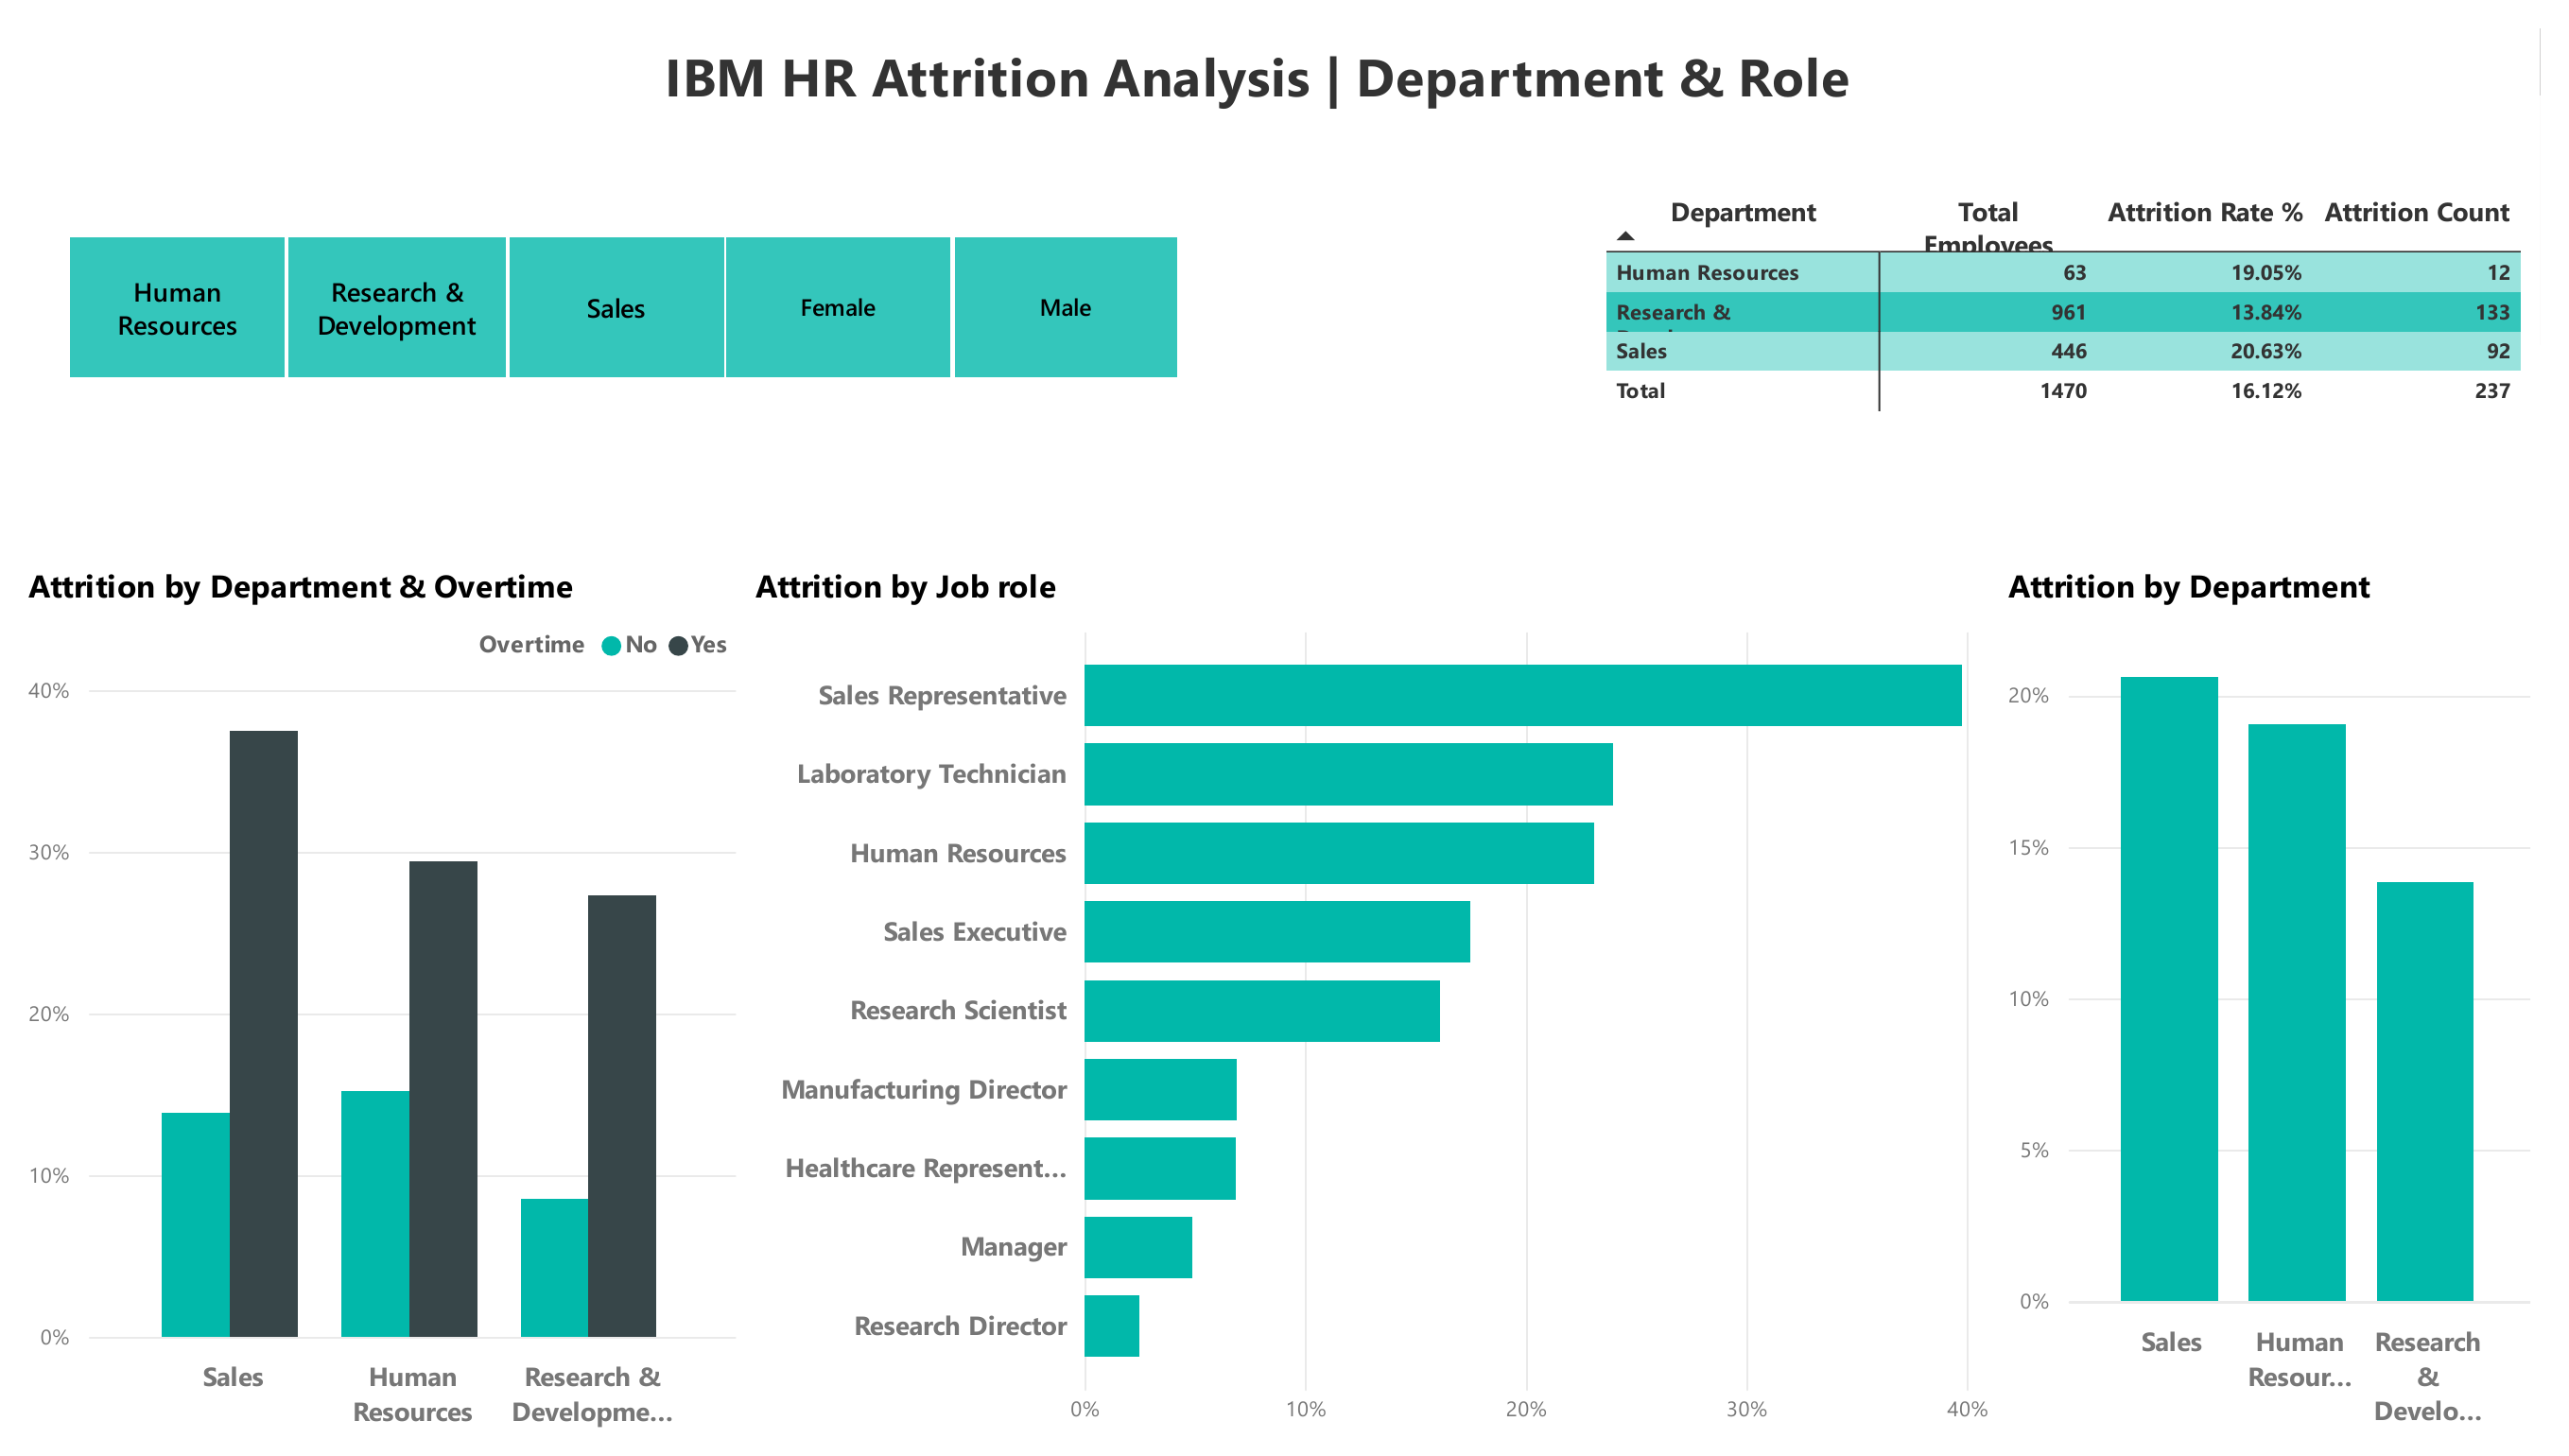

The dashboard page shown, as its layout file describes it:
{"tool":"powerbi","page":{"name":"IBM HR Attrition Analysis | Department & Role","canvas":[1280,720],"ordinal":1},"visuals":[{"type":"clusteredColumnChart","title":"Attrition by Department","fields":{"Category":["public demographics.department"],"Y":["public attrition.Attrition Rate %"]},"box":[1004.8,272,275,447.4],"z":0},{"type":"clusteredBarChart","title":"Attrition by Job role","fields":{"Category":["public demographics.jobrole"],"Y":["public attrition.Attrition Rate %"]},"box":[368.6,272,636.2,447.4],"z":1000},{"type":"pivotTable","fields":{"Rows":["public demographics.department","public demographics.jobrole"],"Values":["public demographics.Total Employees","public attrition.Attrition Rate %","public attrition.Attrition Count"]},"box":[801.2,75.8,478.6,151.6],"z":2000},{"type":"clusteredColumnChart","title":"Attrition by Department & Overtime","fields":{"Category":["public demographics.department"],"Y":["public attrition.Attrition Rate %"],"Series":["public employment.overtime"]},"box":[0,272,368.6,447.4],"z":3000},{"type":"slicer","fields":{"Values":["public demographics.department"]},"box":[0,98.5,382.1,85.1],"z":4000},{"type":"slicer","fields":{"Values":["public demographics.gender"]},"box":[332.8,98.5,279.1,85.1],"z":5000},{"type":"textbox","box":[322.7,0,634.7,75.8],"z":6000}]}

Visuals, with their boxes in screenshot pixels (x1, y1, x2, y2), scaled from the page's 1280x720 canvas onto the 2569x1456 screenshot:
"Attrition by Department" clusteredColumnChart: [2017, 550, 2568, 1455]
"Attrition by Job role" clusteredBarChart: [739, 550, 2017, 1455]
pivotTable - public demographics.department x public demographics.jobrole: [1608, 153, 2568, 459]
"Attrition by Department & Overtime" clusteredColumnChart: [0, 550, 739, 1455]
slicer - public demographics.department: [0, 199, 767, 372]
slicer - public demographics.gender: [668, 199, 1228, 372]
textbox: [648, 0, 1921, 153]
